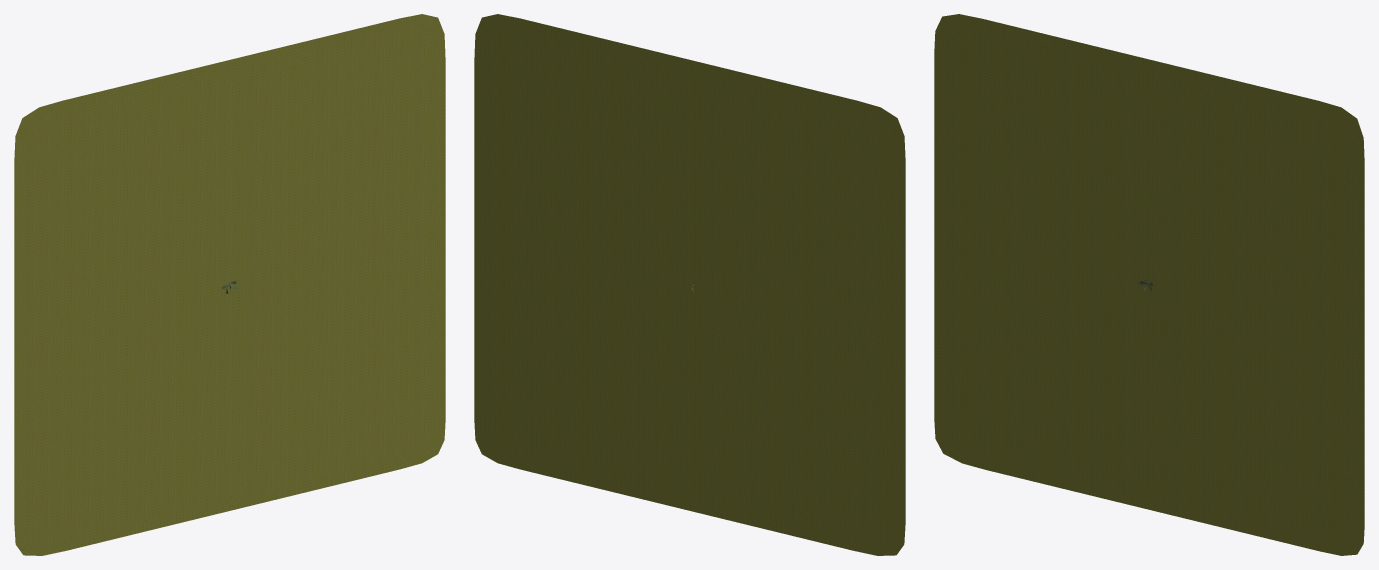
Rendered from grass2.glb.
3 views of the same model, side by side, from view 1: azimuth 30°, elevation 25°; view 2: azimuth 150°, elevation 25°; view 3: azimuth 330°, elevation 25° (orthographic).
Parts seen in each view (by area): view 1: _Grass Generic Medium Sparse; view 2: _Grass Generic Medium Sparse; view 3: _Grass Generic Medium Sparse.
Part boxes in pixels (box(x1,y1,x2,y2)): _Grass Generic Medium Sparse: box(14, 14, 445, 555); _Grass Generic Medium Sparse: box(474, 14, 905, 555); _Grass Generic Medium Sparse: box(934, 14, 1364, 555).
Bounding box in the file's own units: 10 × 10 × 0.2294.
2 materials, 2 textured.
